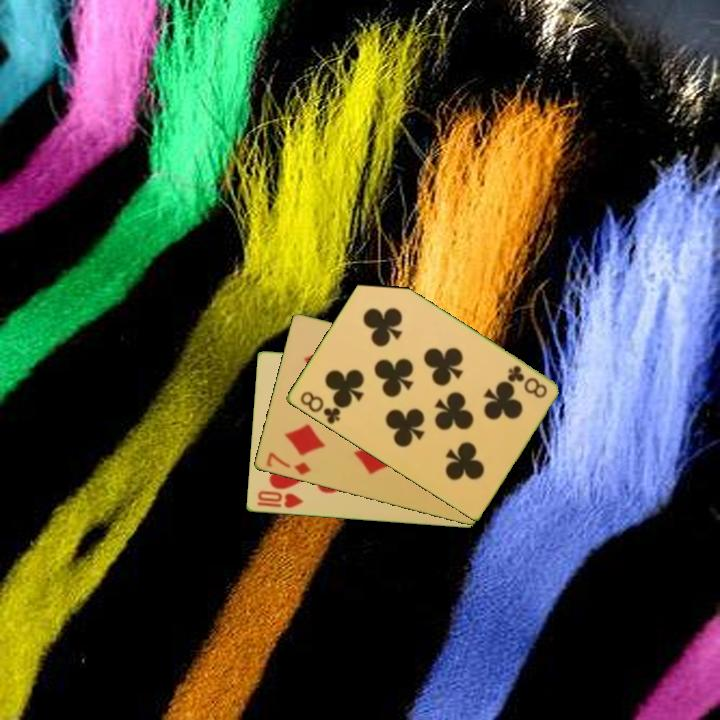10h: (253, 488, 306, 511)
7d: (262, 449, 313, 478)
8c: (296, 388, 343, 427), (503, 362, 550, 401)
